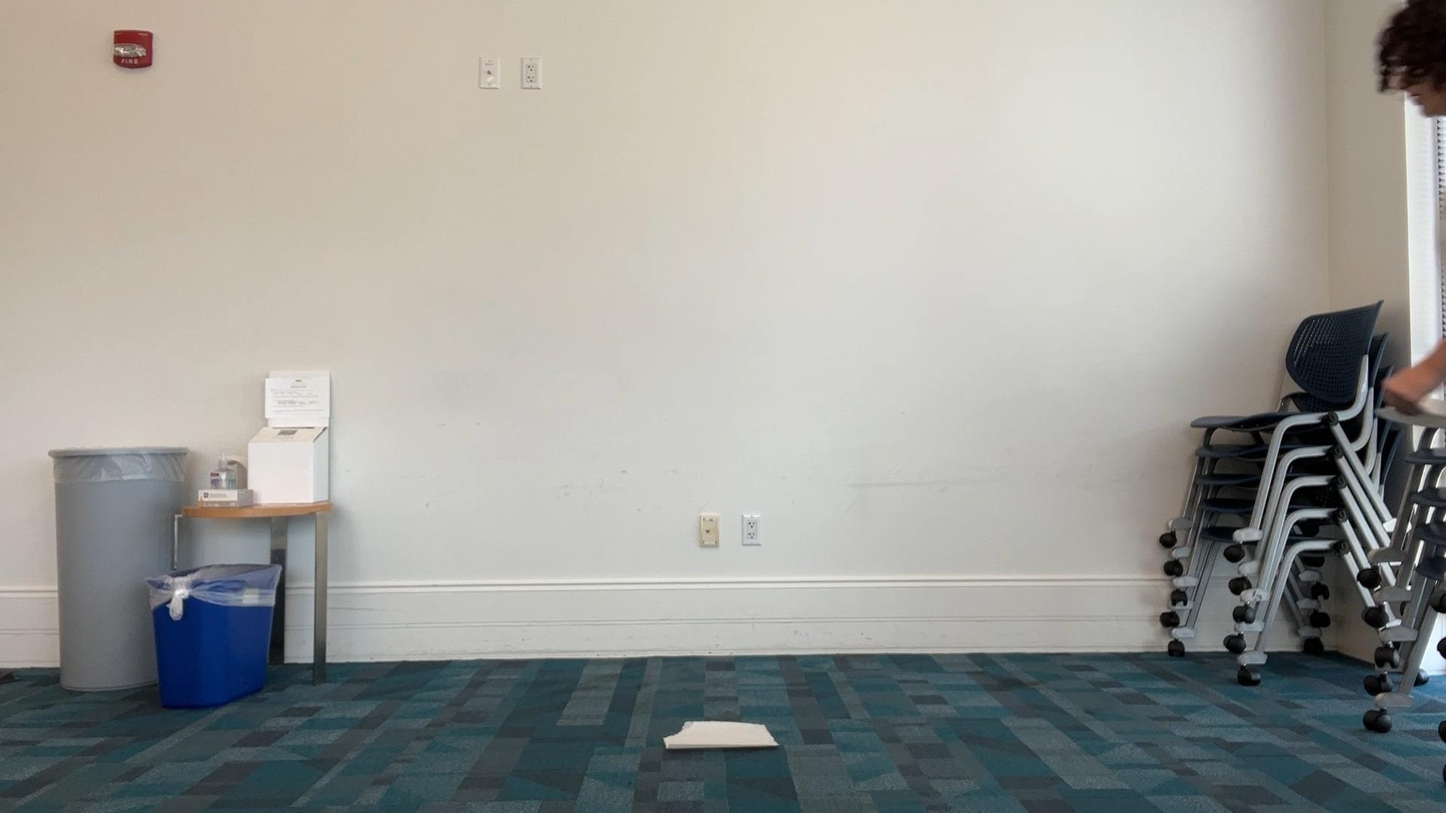Trash: (648, 704, 797, 766)
